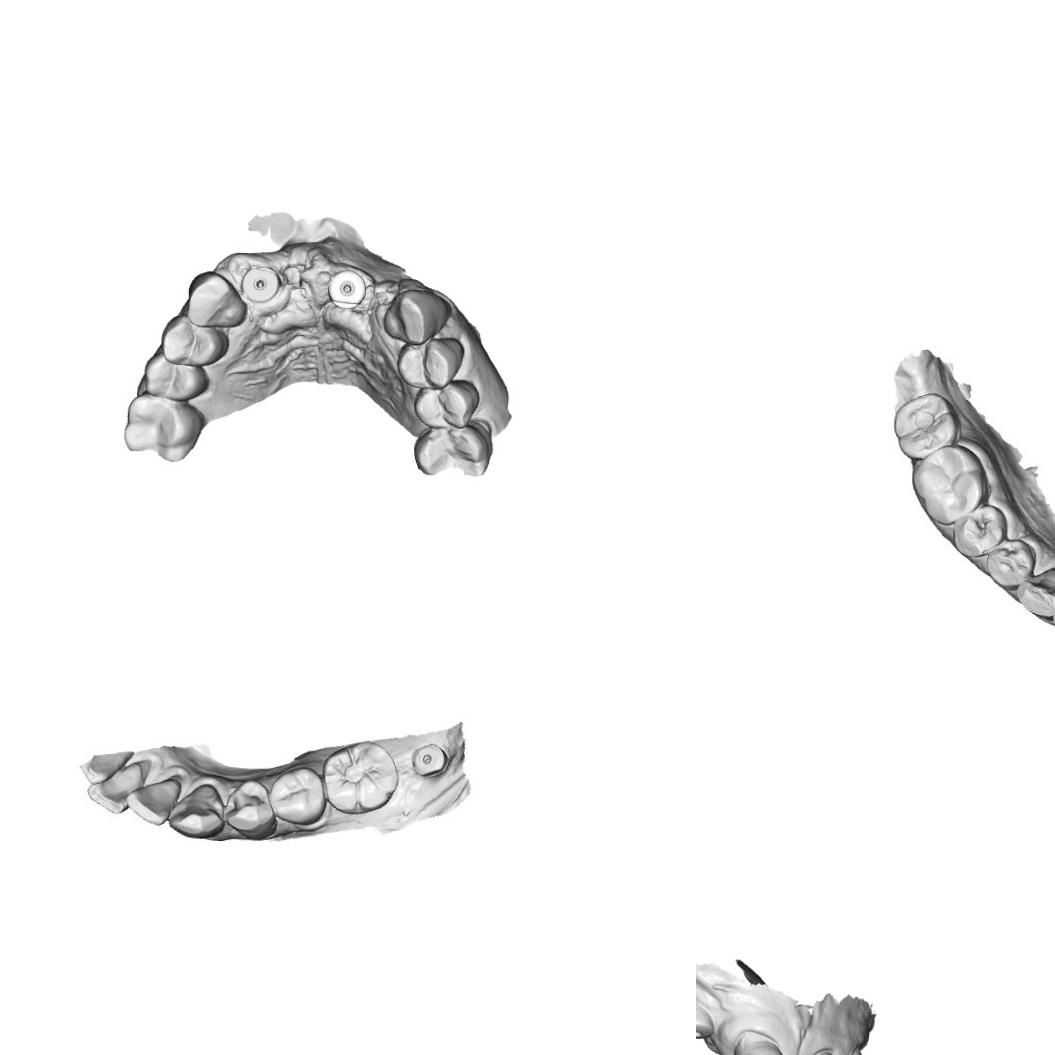canine: (382, 288, 452, 346), (184, 269, 248, 329), (166, 782, 224, 839), (1015, 562, 1055, 618)
implant: (327, 268, 368, 310), (240, 266, 282, 304), (409, 742, 449, 778), (696, 996, 716, 1040)
incisor: (85, 760, 143, 815), (125, 778, 181, 826)
molar: (122, 388, 204, 464), (912, 446, 988, 526), (320, 740, 400, 816), (412, 418, 494, 476), (891, 394, 958, 454)
premolar: (160, 312, 230, 368), (394, 336, 464, 391), (268, 766, 328, 826), (412, 378, 481, 430), (142, 350, 210, 402), (223, 778, 278, 841), (951, 503, 1004, 556), (988, 542, 1036, 584)
